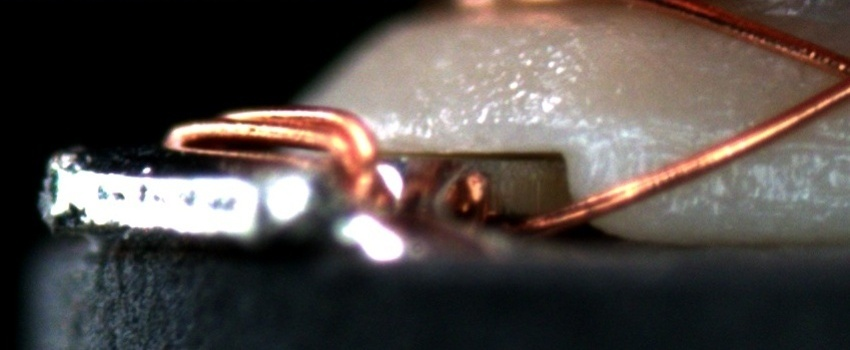CL: (806, 42, 850, 111)
DL: (595, 113, 849, 177)
TE: (158, 102, 493, 228)
